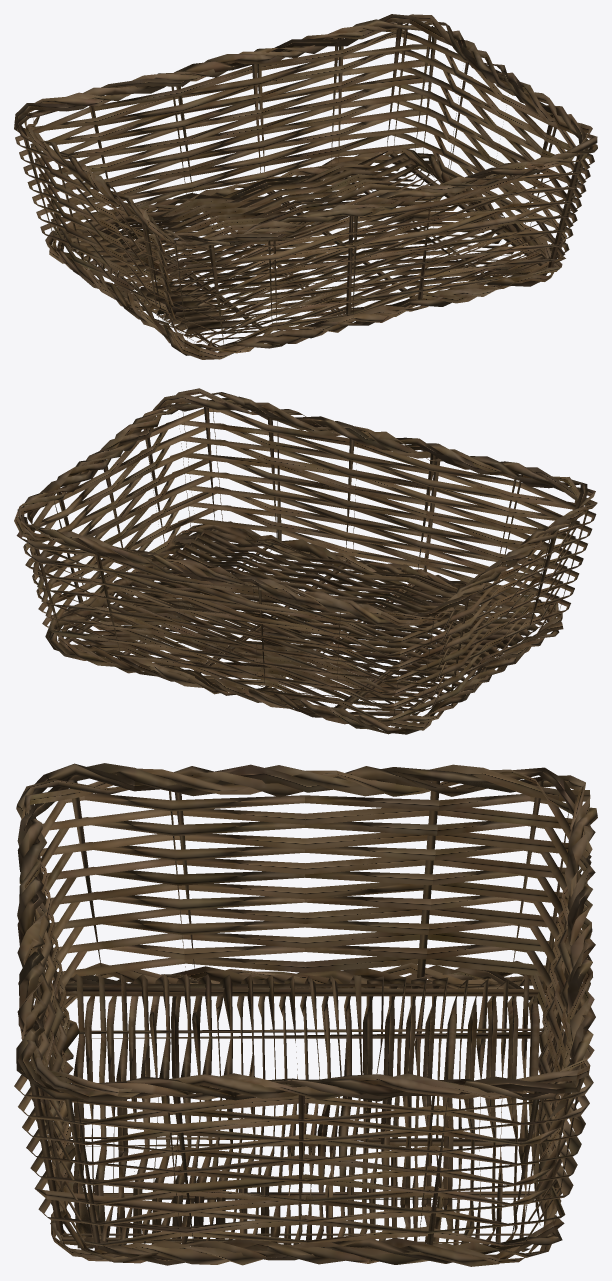
File: wicker_basket_01.glb
3 views of the same model, one above another, from view 1: azimuth 30°, elevation 25°; view 2: azimuth 150°, elevation 25°; view 3: azimuth 270°, elevation 25° (orthographic). The views are drawn at different scales.
Parts seen in each view (by area): view 1: wicker_basket_01; view 2: wicker_basket_01; view 3: wicker_basket_01.
Boxes of the visible parts, left/top/right/bottom form: wicker_basket_01: left=14, top=14, right=597, bottom=359; wicker_basket_01: left=14, top=388, right=597, bottom=734; wicker_basket_01: left=14, top=763, right=597, bottom=1266.
Bounding box in the file's own units: 0.383 × 0.1174 × 0.2939.
1 material, 1 textured.
